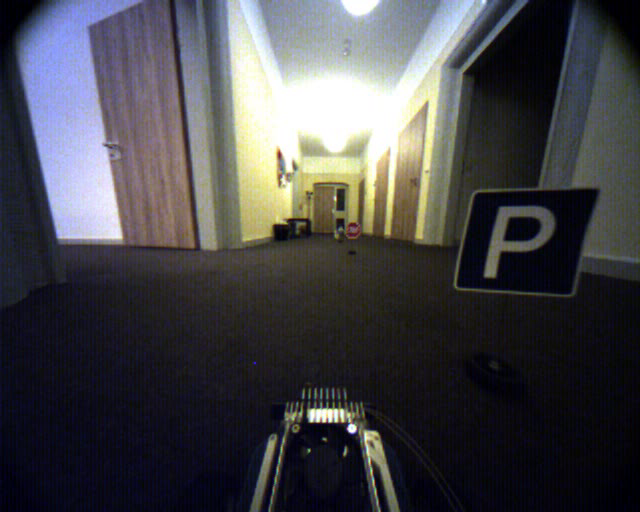sign_parking_zone: (452, 187, 602, 298)
sign_speed_limit_end: (86, 4, 203, 251)
sign_stop: (344, 222, 361, 239)
